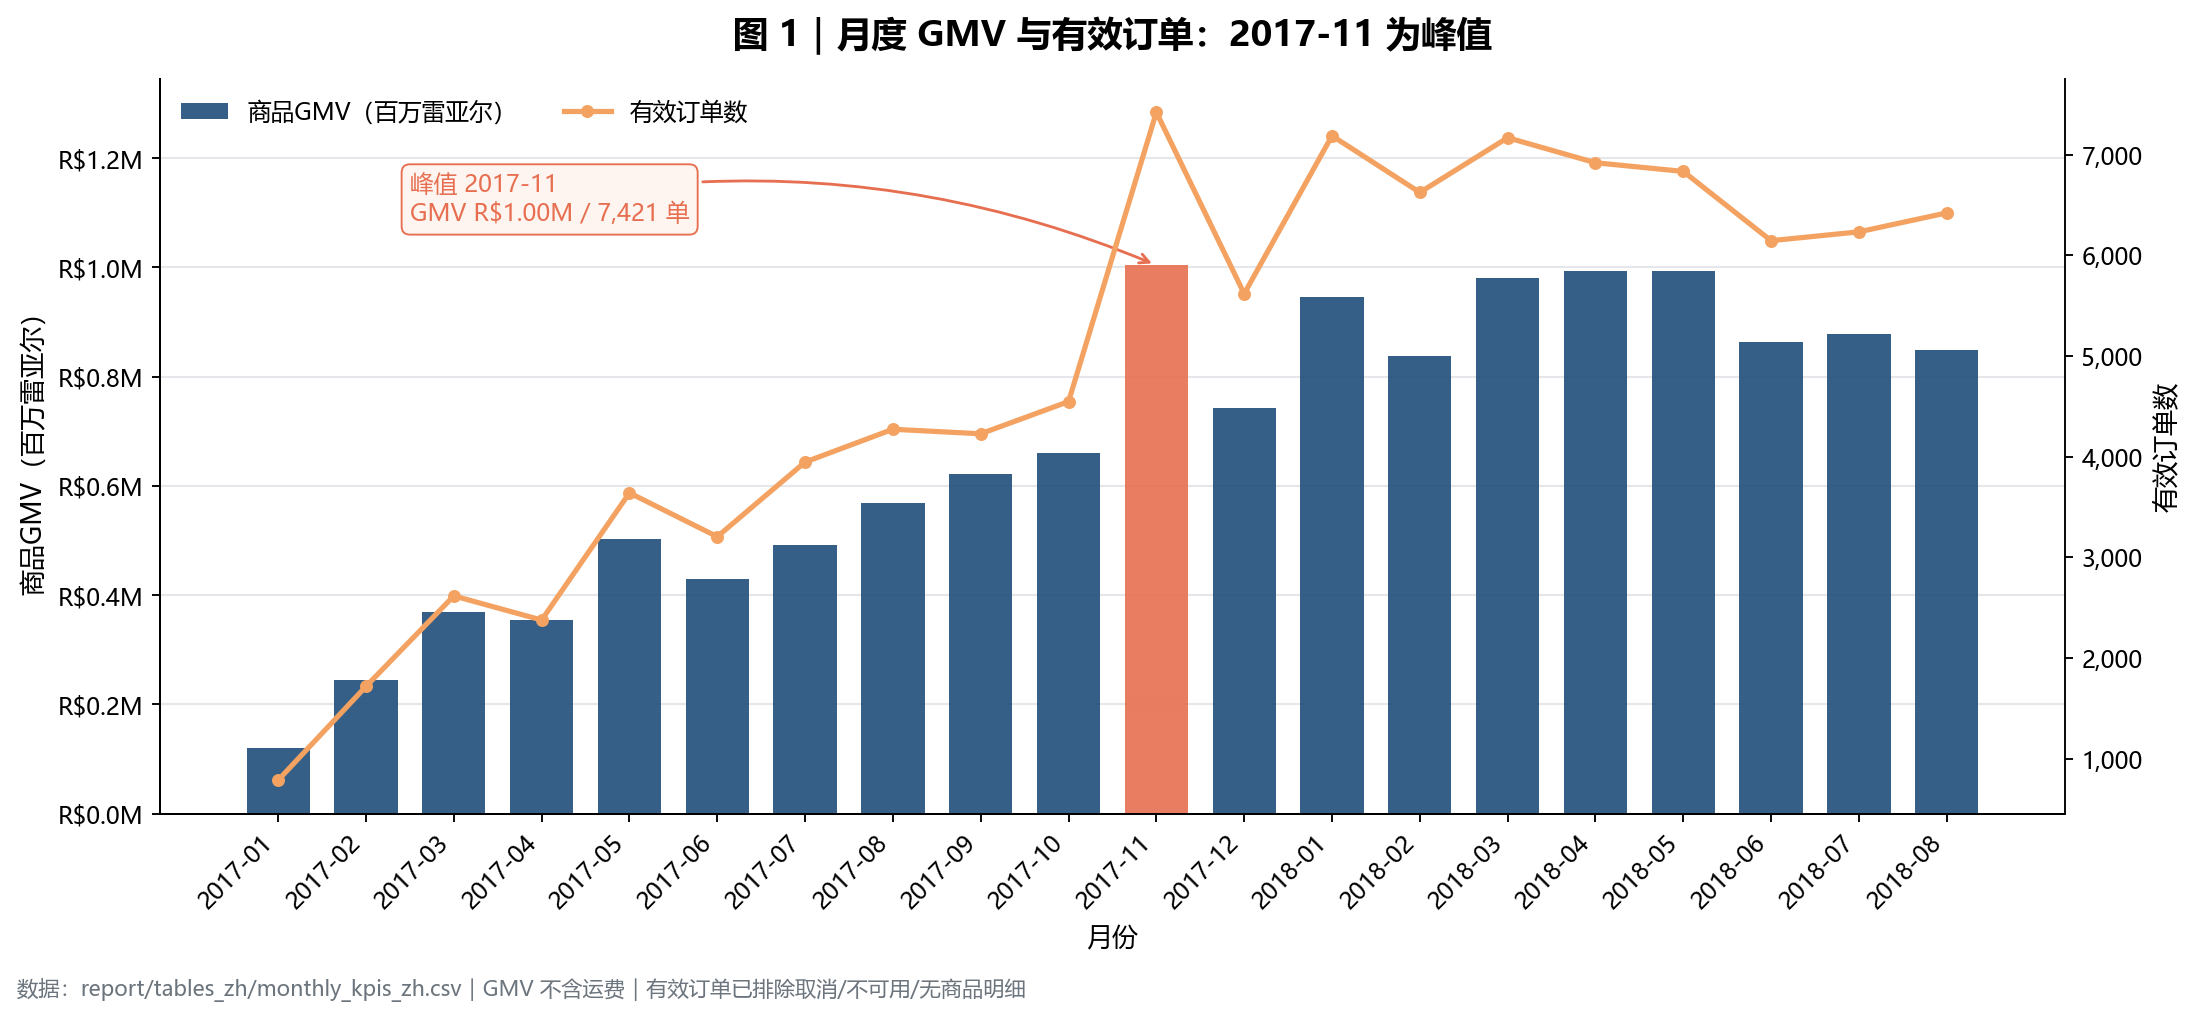

The dashboard page shown, as its layout file describes it:
{"tool":"powerbi","page":{"name":"01 月度趋势","canvas":[1920,1080],"ordinal":0},"visuals":[{"type":"lineClusteredColumnComboChart","title":"月度GMV与有效订单","fields":{"Category":["monthly_kpis_zh.月份"],"Y":["monthly_kpis_zh.核心_商品GMV"],"Y2":["monthly_kpis_zh.核心_有效订单数"]},"box":[9.4,0,1079,598.7],"z":0}]}

Visuals, with their boxes on the page's 1920x1080 design canvas (x1, y1, x2, y2). These are canvas units, not pixel positions in the 2198x1019 screenshot, which may show the page scaled, cropped or inside an application window:
"月度GMV与有效订单" lineClusteredColumnComboChart: pyautogui.locateOnScreen(9, 0, 1088, 599)
